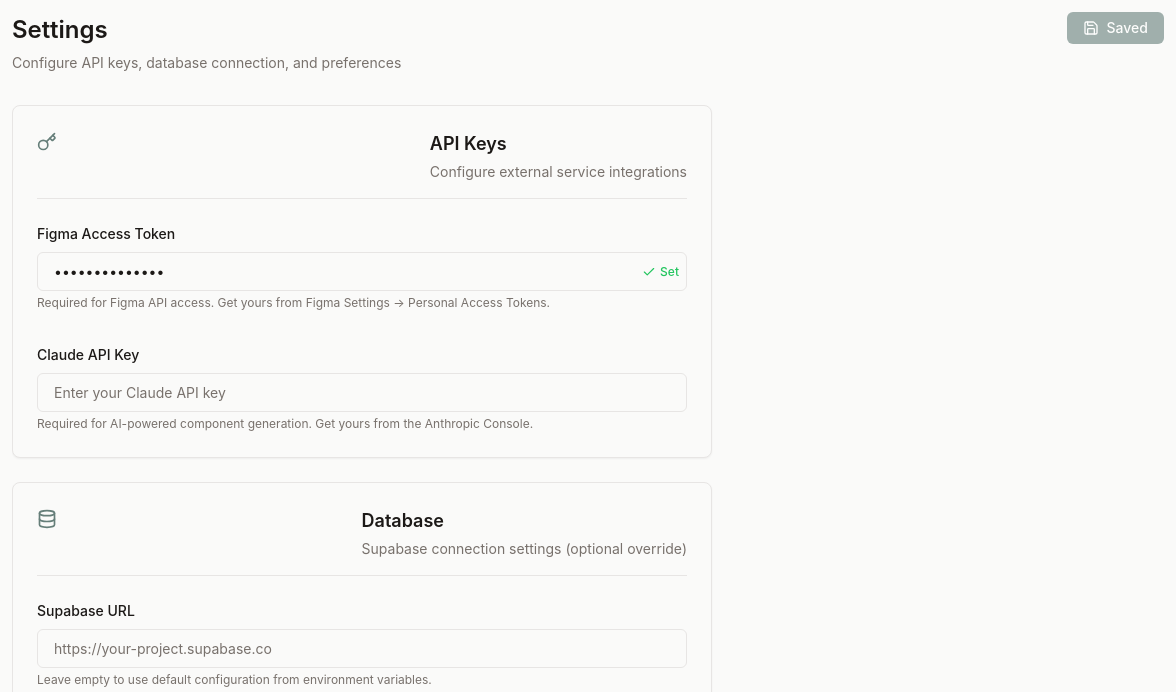
Scenario: SettingsPage › Discard Changes › reverts changes when Discard is clicked
This screenshot has width=1176, height=692.
Type "new-token" into the password field labelled "Figma Access Token" at coordinates (362, 272), box [37, 252, 687, 291]
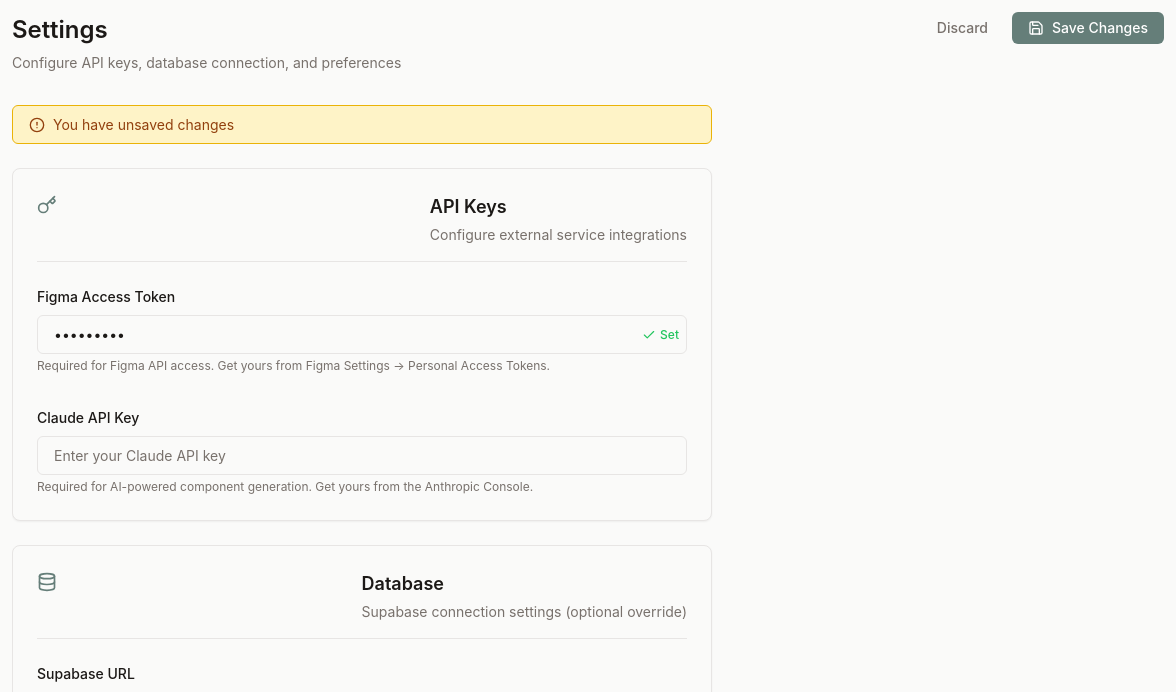
Click the button "Discard" at coordinates (962, 28), box [921, 13, 1004, 43]
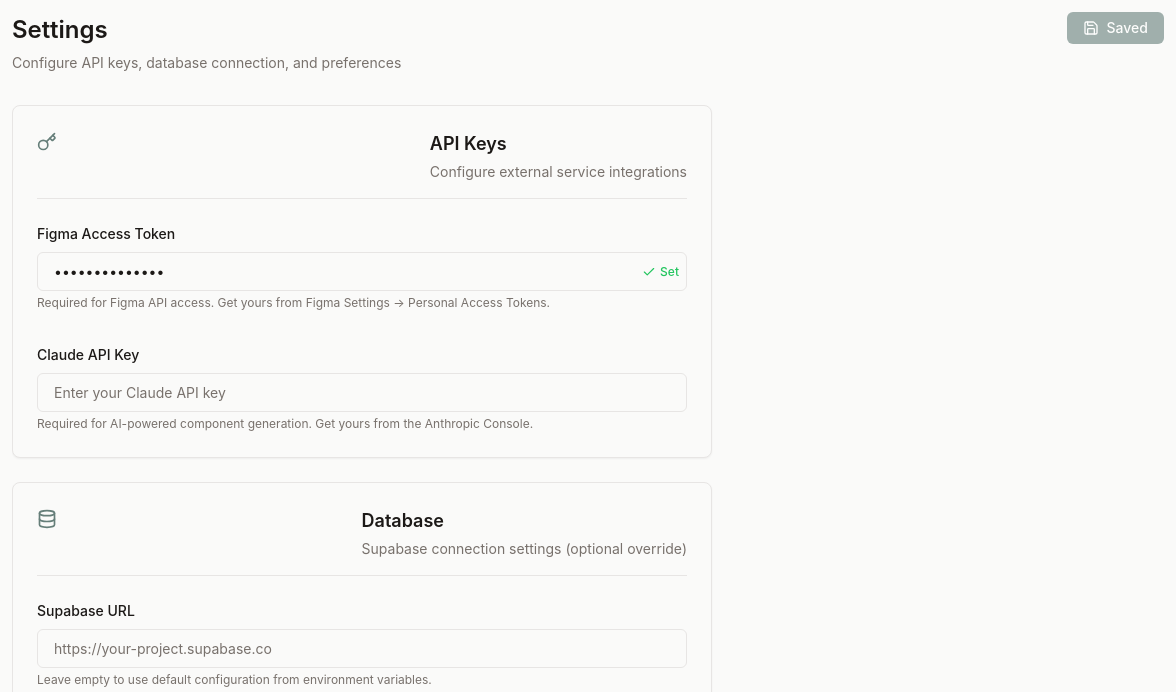
Expected: the password field labelled "Figma Access Token" holds "original-token", [37, 252, 687, 291]
